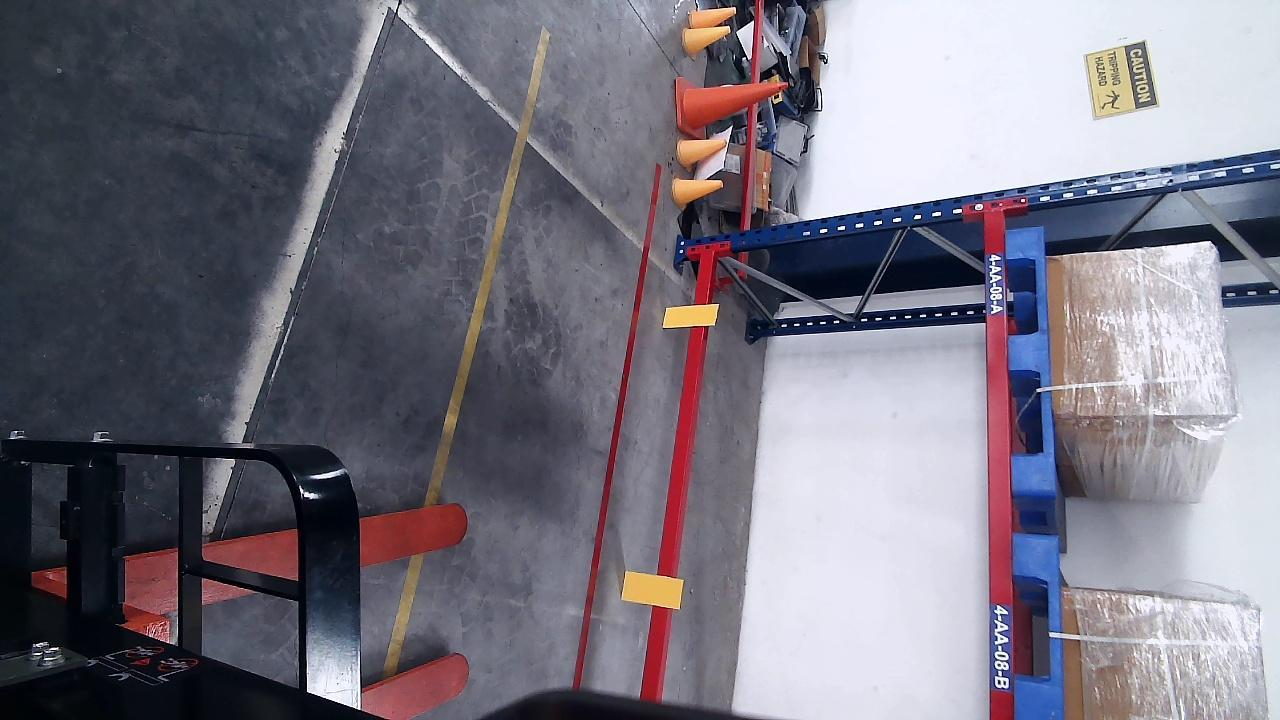h_rack: (642, 252, 713, 700), (986, 211, 1014, 720)
orange_strip: (621, 572, 683, 609), (661, 304, 722, 330)
red_line: (570, 158, 662, 686)
small_pallet: (1005, 226, 1050, 492), (1012, 533, 1061, 720)
yellow_line: (423, 26, 550, 508)
